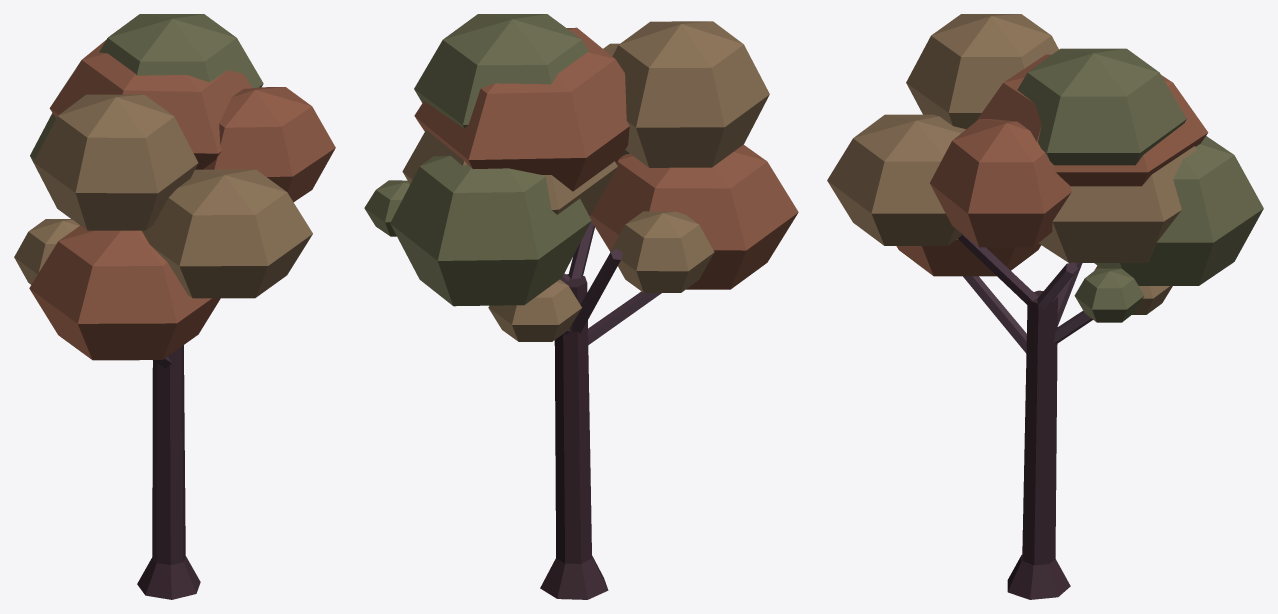
Rendered from copac_2.glb.
3 views of the same model, side by side, from view 1: azimuth 30°, elevation 25°; view 2: azimuth 150°, elevation 25°; view 3: azimuth 270°, elevation 25° (orthographic). The views are drawn at different scales.
Parts seen in each view (by area): view 1: Copac; view 2: Copac; view 3: Copac.
Part boxes in pixels (x1=…): Copac: x1=14, y1=14, x2=335, y2=599; Copac: x1=364, y1=14, x2=798, y2=599; Copac: x1=827, y1=14, x2=1263, y2=599.
Size of the model in its own units: 3.4 by 5.87 by 4.2.
